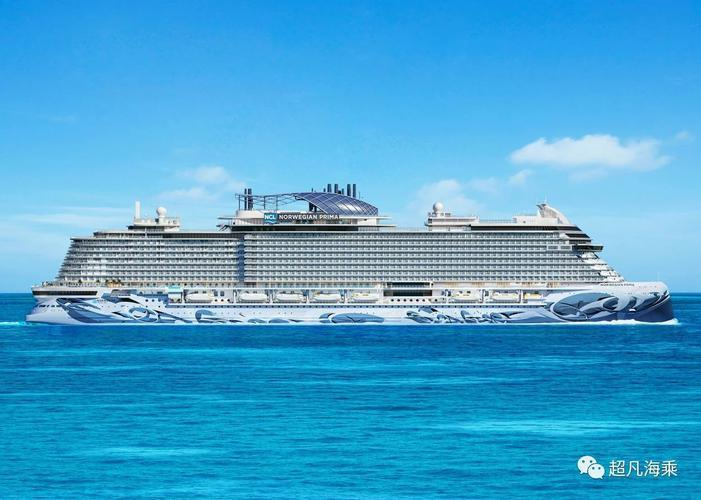Ship: (49, 210, 675, 334)
